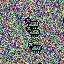sheep: (24, 18, 39, 29), (26, 26, 40, 37), (28, 42, 42, 53)
